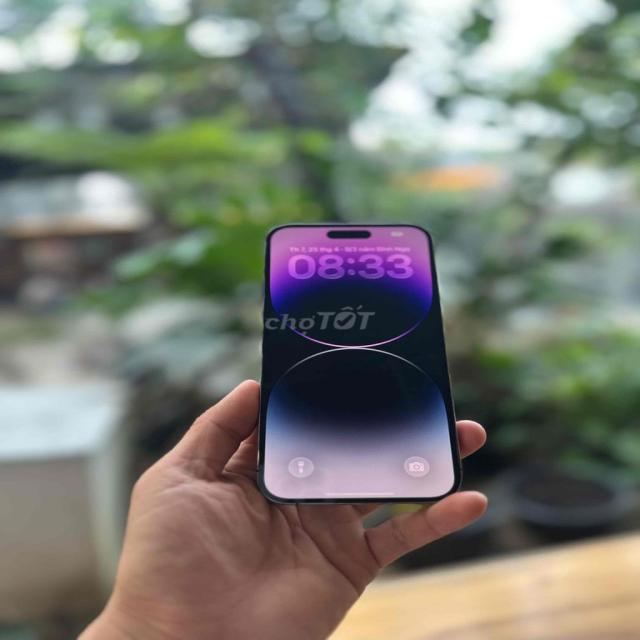gen_14: (246, 213, 474, 503)
